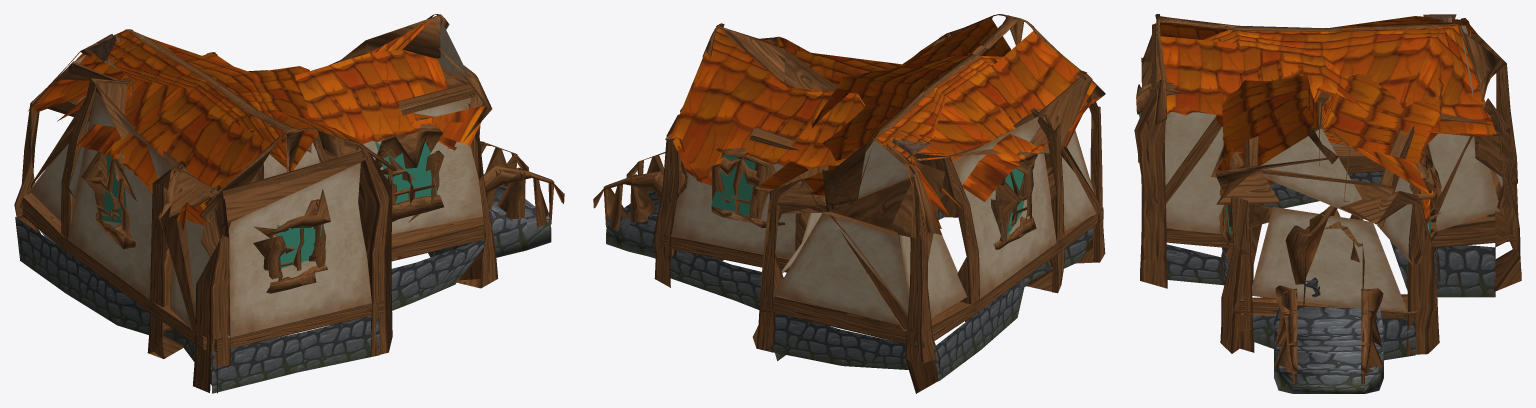
The model's file is house2_morph.fbx.
3 views of the same model, side by side, from view 1: azimuth 30°, elevation 25°; view 2: azimuth 150°, elevation 25°; view 3: azimuth 270°, elevation 25° (orthographic). The views are drawn at different scales.
Visible parts, largest first — view 1: house2before; view 2: house2before; view 3: house2before.
Boxes of the visible parts, bbox=[...] form: house2before: bbox=[14, 14, 564, 393]; house2before: bbox=[593, 14, 1105, 393]; house2before: bbox=[1134, 14, 1521, 393].
Bounding box in the file's own units: 263 × 143 × 206.
3 materials, 2 textured.
